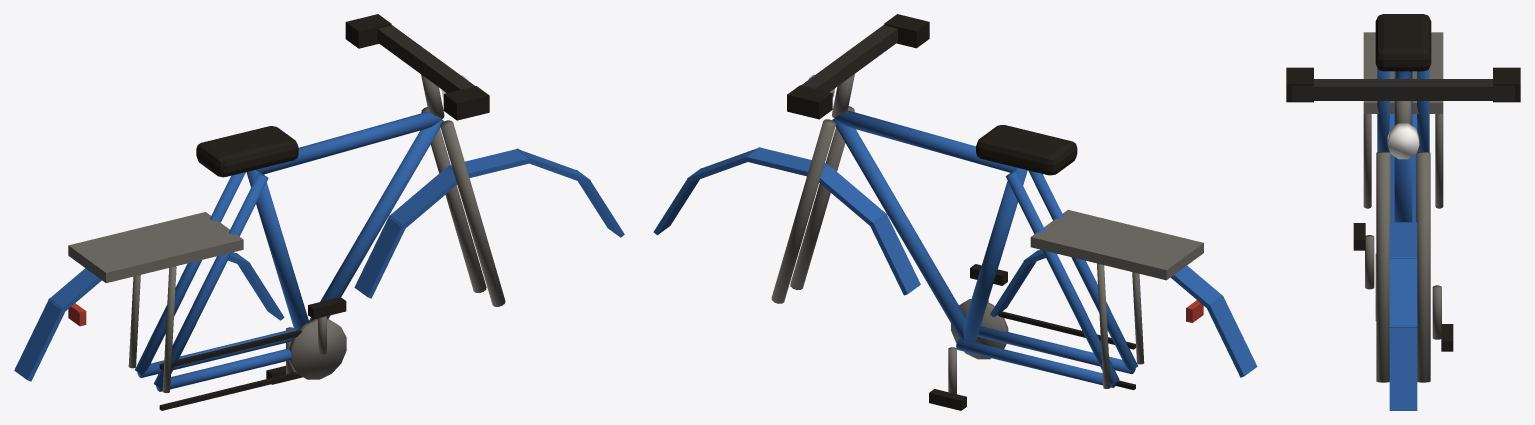
File: VH_Bike.glb
3 renders of one model, left to right at view 1: azimuth 30°, elevation 25°; view 2: azimuth 150°, elevation 25°; view 3: azimuth 270°, elevation 25°, orthographic. The views are drawn at different scales.
Parts seen in each view (by area): view 1: Cube; view 2: Cube; view 3: Cube.
Part boxes in pixels (x1,y1,x2,y2): Cube: (14,14,624,410); Cube: (653,14,1257,410); Cube: (1286,14,1520,410).
Bounding box in the file's own units: 1.83 × 0.9 × 0.59.
